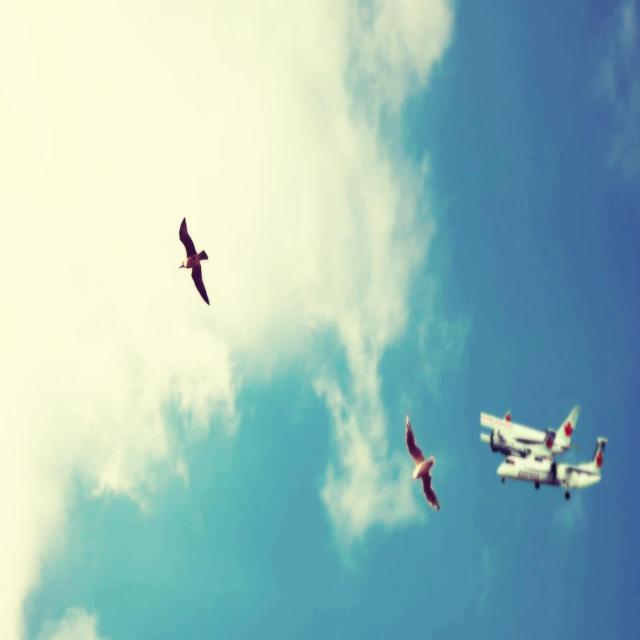airplane: (496, 436, 608, 500), (480, 404, 580, 459)
